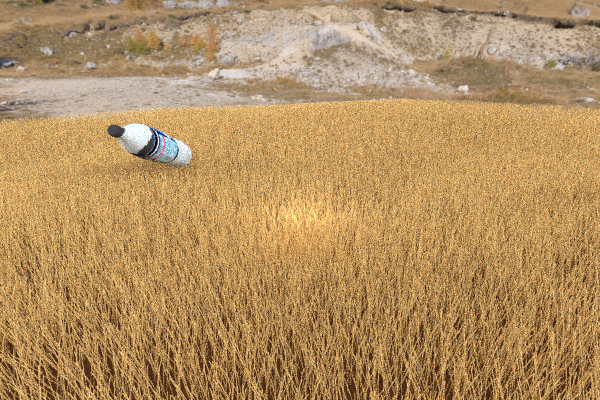Plastic Bottle: (104, 123, 190, 167), (347, 107, 374, 128), (338, 102, 362, 116)
